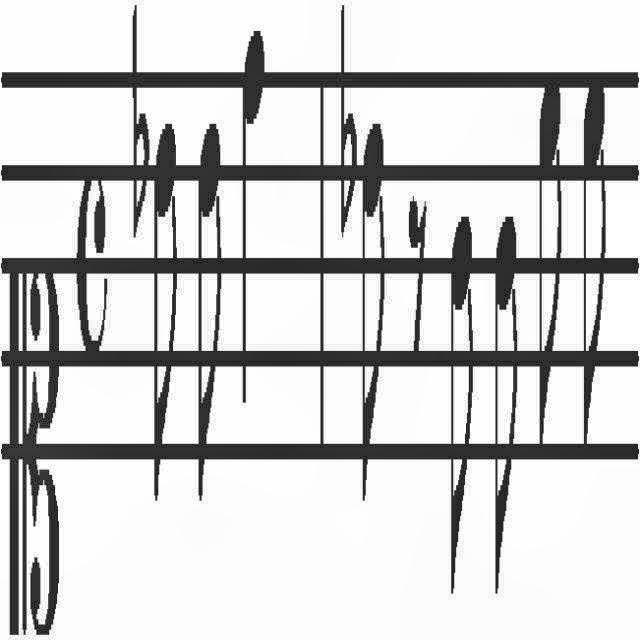Bemol: (130, 2, 150, 262), (342, 2, 358, 238)
Eighth-note: (360, 117, 388, 523), (448, 210, 476, 606), (582, 74, 610, 462), (197, 110, 223, 518), (153, 114, 179, 514), (537, 71, 563, 463), (496, 210, 520, 602)
Eighth-rest: (408, 188, 428, 358)
Quarter-note: (241, 31, 267, 413)
